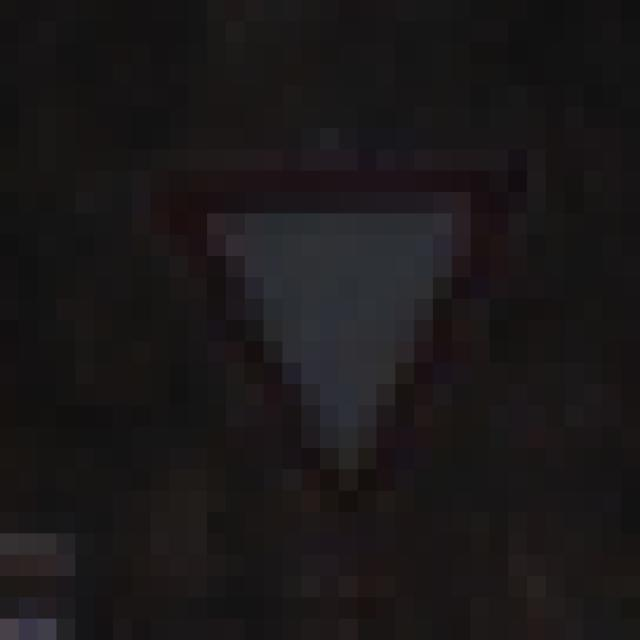Give Way: (114, 108, 547, 534)
